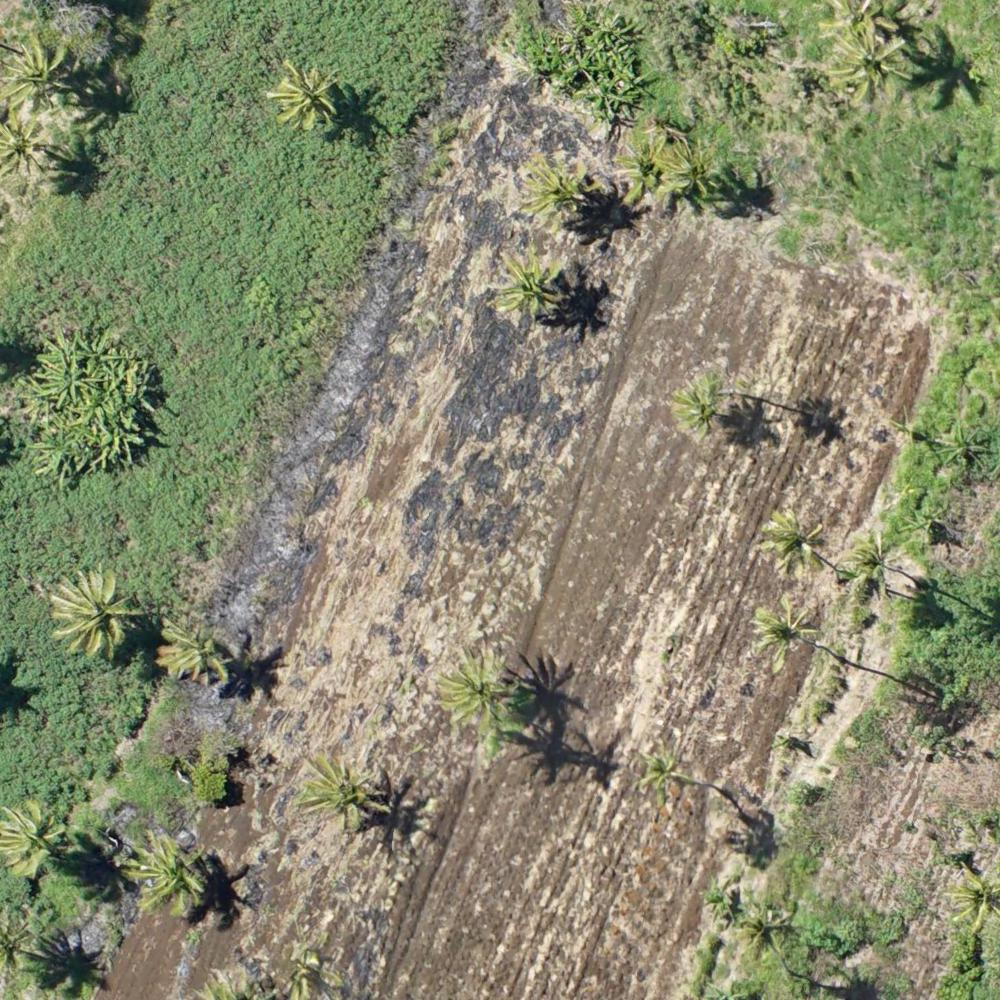Palm: (50, 572, 134, 655), (301, 752, 388, 827), (436, 646, 512, 731), (833, 21, 915, 99), (124, 832, 205, 910), (154, 614, 235, 686), (3, 795, 65, 880), (270, 62, 341, 132), (495, 251, 565, 319), (4, 42, 70, 110), (749, 598, 817, 662), (614, 141, 680, 204), (758, 511, 822, 575), (942, 867, 1000, 932), (520, 164, 589, 217), (671, 373, 730, 432), (734, 904, 793, 960), (845, 532, 899, 590), (1, 118, 50, 180), (668, 139, 716, 199), (638, 739, 687, 797)
